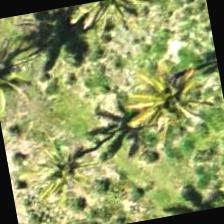Kelapa_Sawit: (120, 54, 223, 159), (3, 124, 103, 223), (60, 0, 158, 54)
